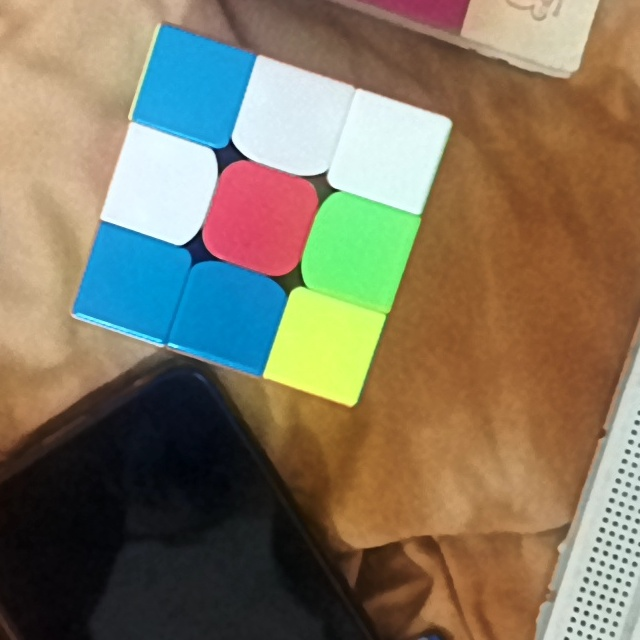tile: (150, 50, 234, 127), (222, 177, 298, 257), (324, 209, 398, 288), (124, 148, 203, 222), (187, 282, 267, 353), (249, 83, 331, 150), (286, 310, 361, 382), (352, 119, 427, 189), (92, 253, 170, 319)
